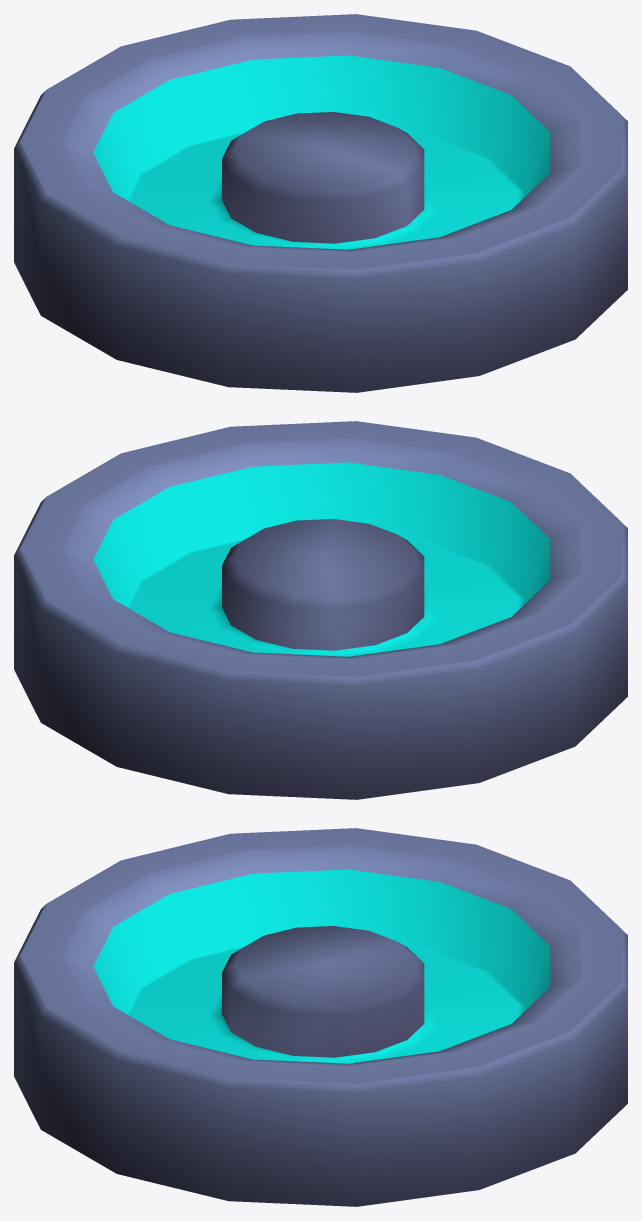
File: socket.fbx
The picture shows the model from 3 angles, top to bottom: view 1: azimuth 30°, elevation 25°; view 2: azimuth 150°, elevation 25°; view 3: azimuth 270°, elevation 25°; orthographic projection.
Parts seen in each view (by area): view 1: socket; view 2: socket; view 3: socket.
Part boxes in pixels (left/top/right/bottom): socket: left=14, top=14, right=627, bottom=392; socket: left=14, top=421, right=627, bottom=799; socket: left=14, top=828, right=627, bottom=1206.
Bounding box in the file's own units: 121 × 26.14 × 121.
